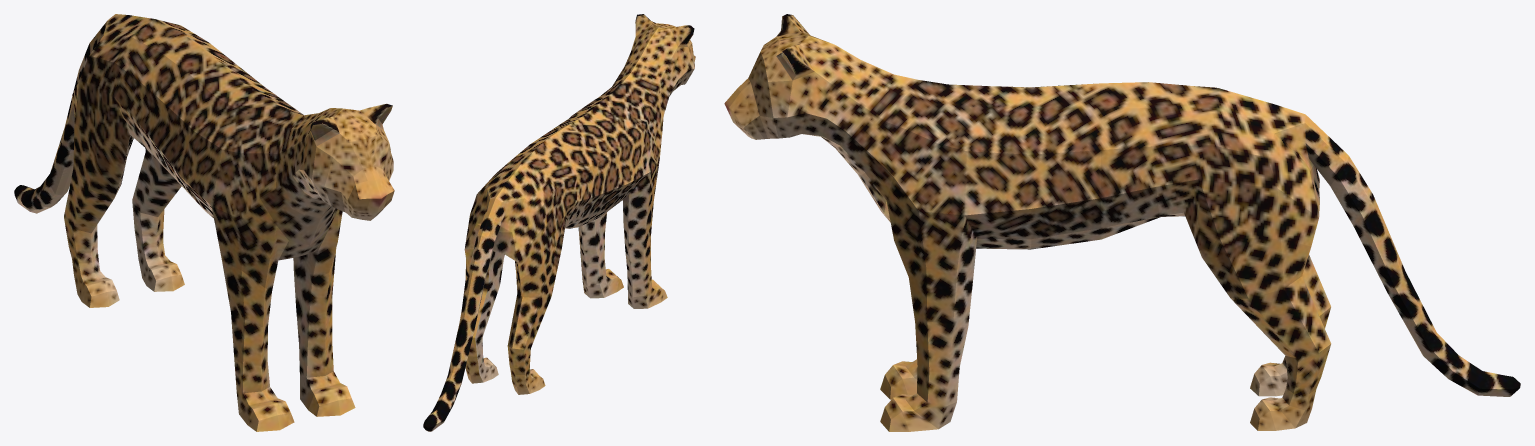
File: jagua.glb
The picture shows the model from 3 angles, left to right: view 1: azimuth 30°, elevation 25°; view 2: azimuth 150°, elevation 25°; view 3: azimuth 270°, elevation 25°; orthographic projection. The views are drawn at different scales.
Parts seen in each view (by area): view 1: Jaguar_mesh; view 2: Jaguar_mesh; view 3: Jaguar_mesh.
Boxes of the visible parts, x1,y1,x2,y2 form: Jaguar_mesh: [14, 14, 394, 431]; Jaguar_mesh: [423, 14, 695, 431]; Jaguar_mesh: [724, 14, 1520, 431].
Bounding box in the file's own units: 2.51 × 6.84 × 13.22.
1 material, 1 textured.
